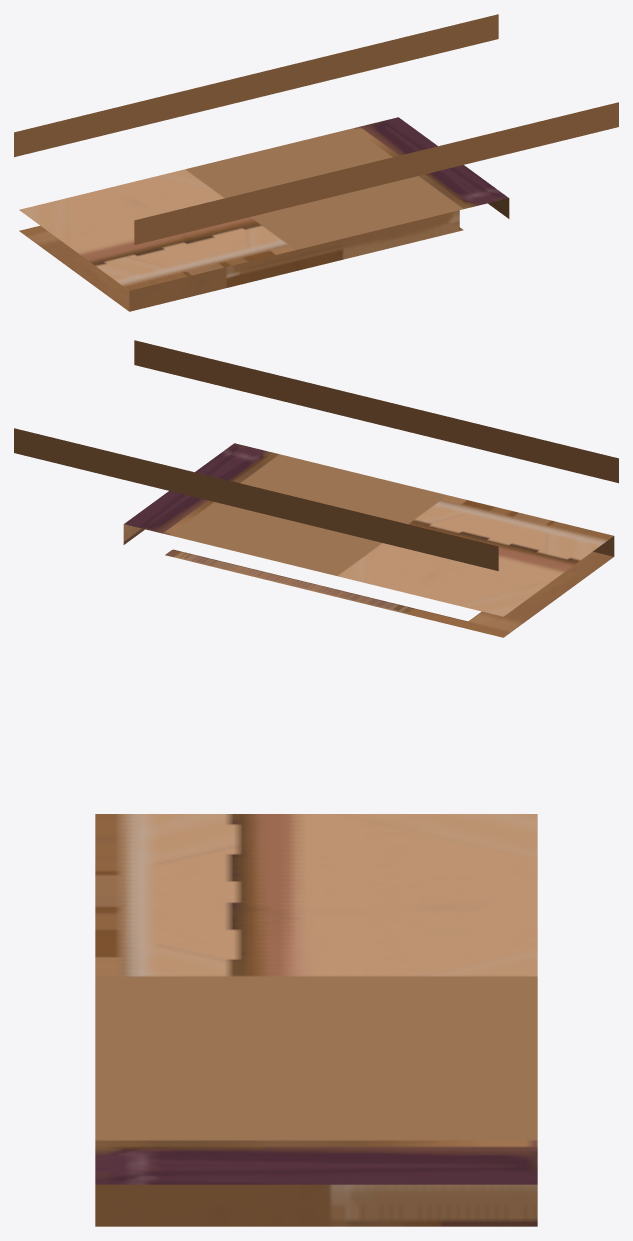
File: section-7.obj
The picture shows the model from 3 angles, top to bottom: view 1: azimuth 30°, elevation 25°; view 2: azimuth 150°, elevation 25°; view 3: azimuth 270°, elevation 25°; orthographic projection. The views are drawn at different scales.
Bounding box in the file's own units: 0.8753 × 0.1638 × 0.3761.
